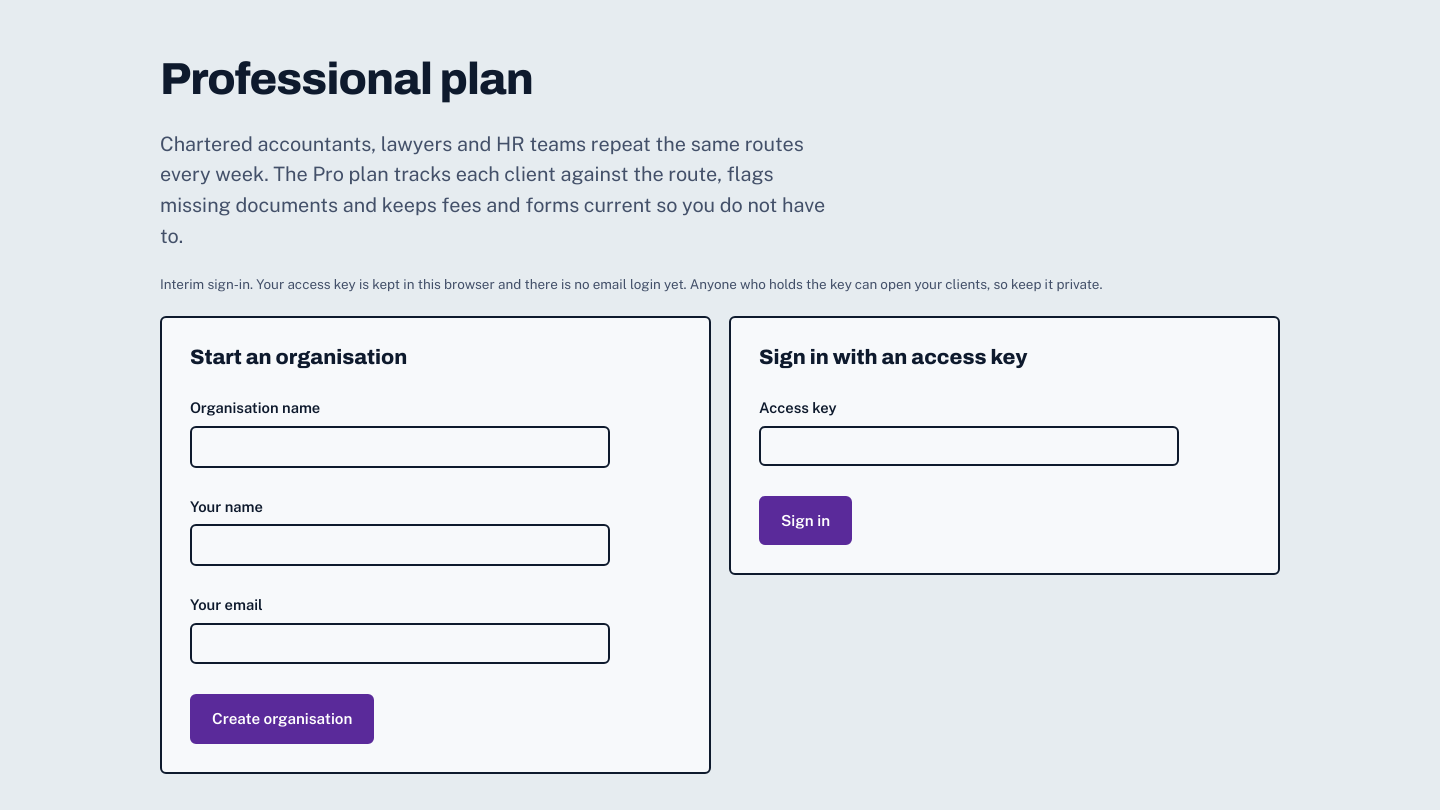
Test: Pro: signing in › shows what the server refused when starting an organisation
This screenshot has width=1440, height=810.
Type "Rao & Co" into the field labelled "Organisation name" at (400, 447), box 190,426 -> 610,468
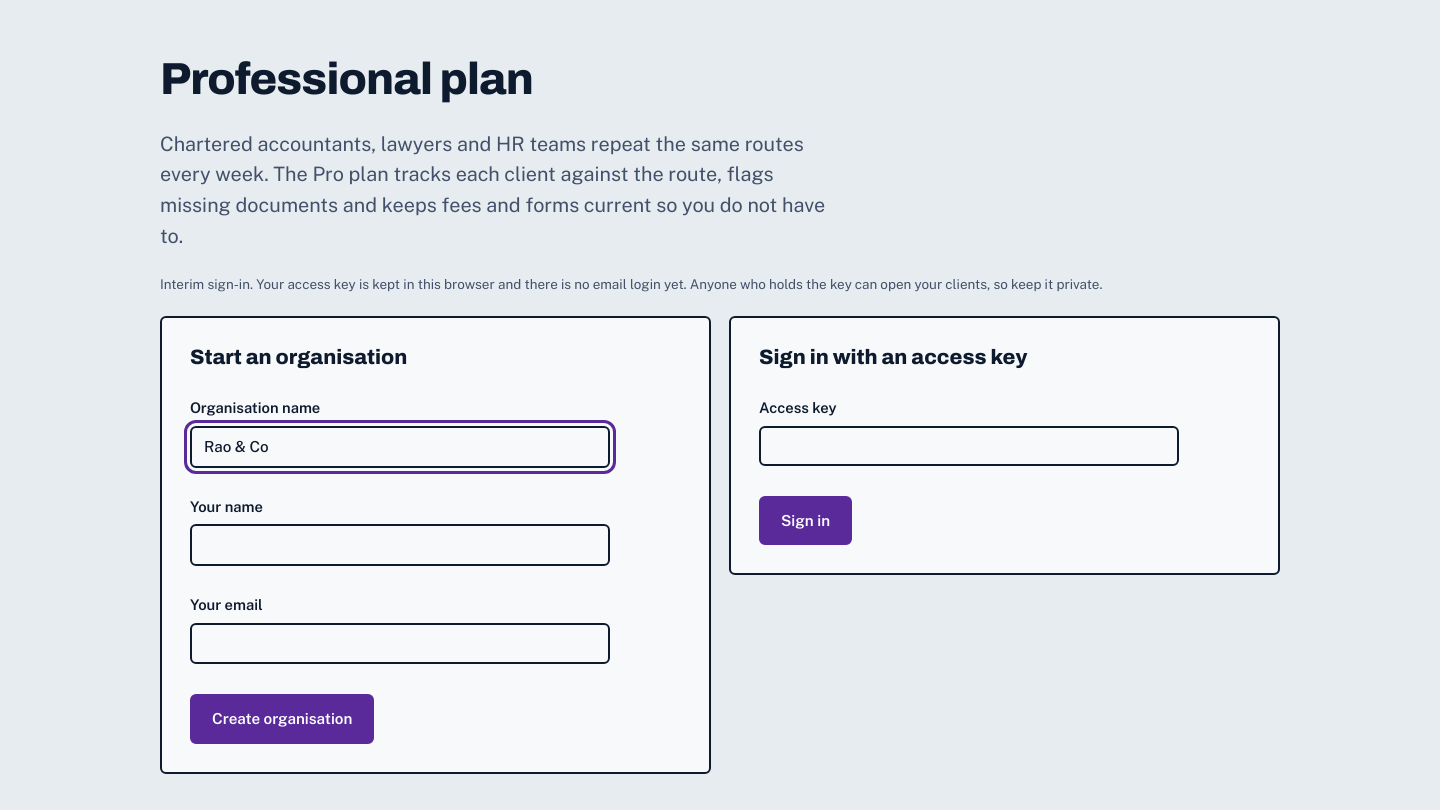
Type "Meera" into the field labelled "Your name" at (400, 545), box 190,524 -> 610,566
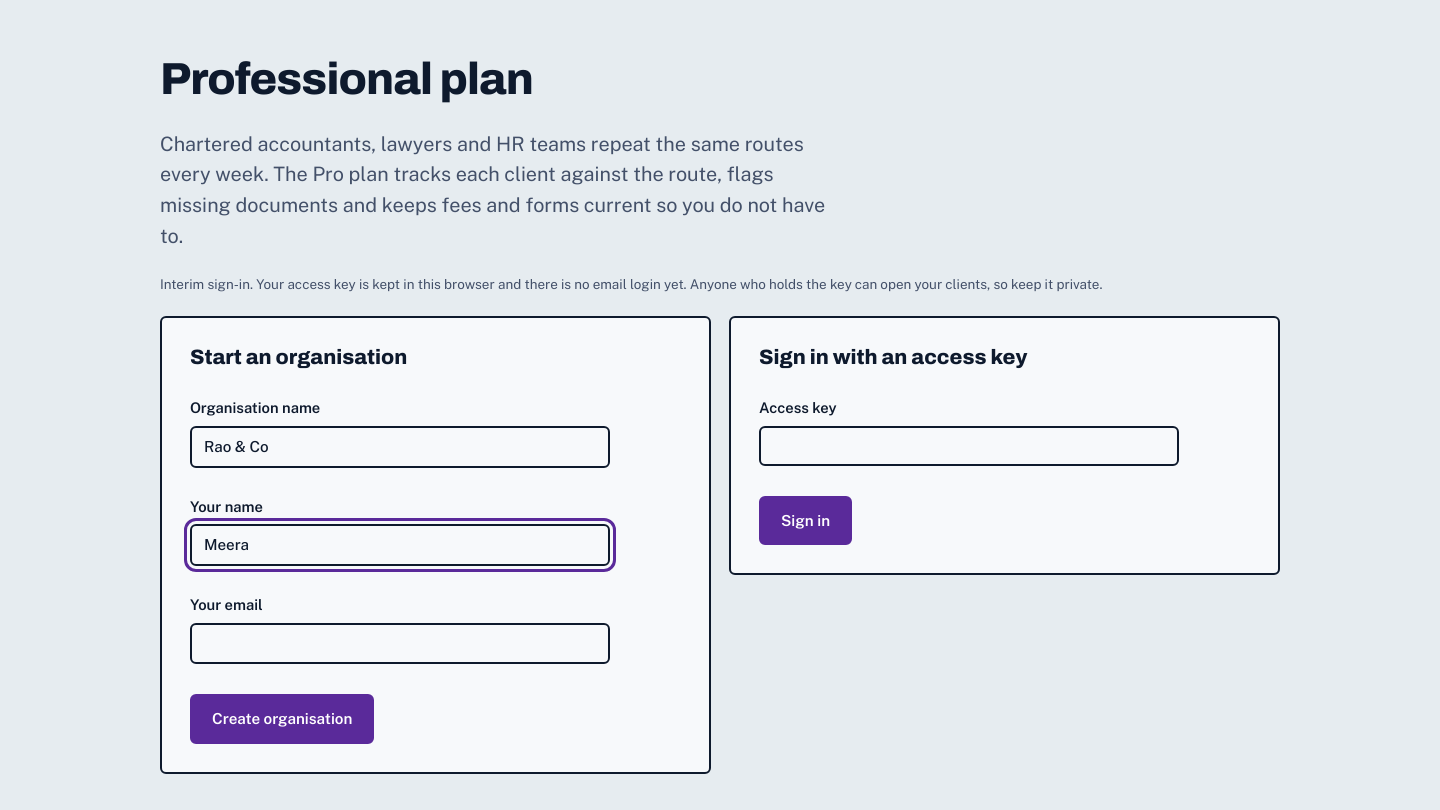
Type "meera@example.com" into the field labelled "Your email" at (400, 643), box 190,622 -> 610,664
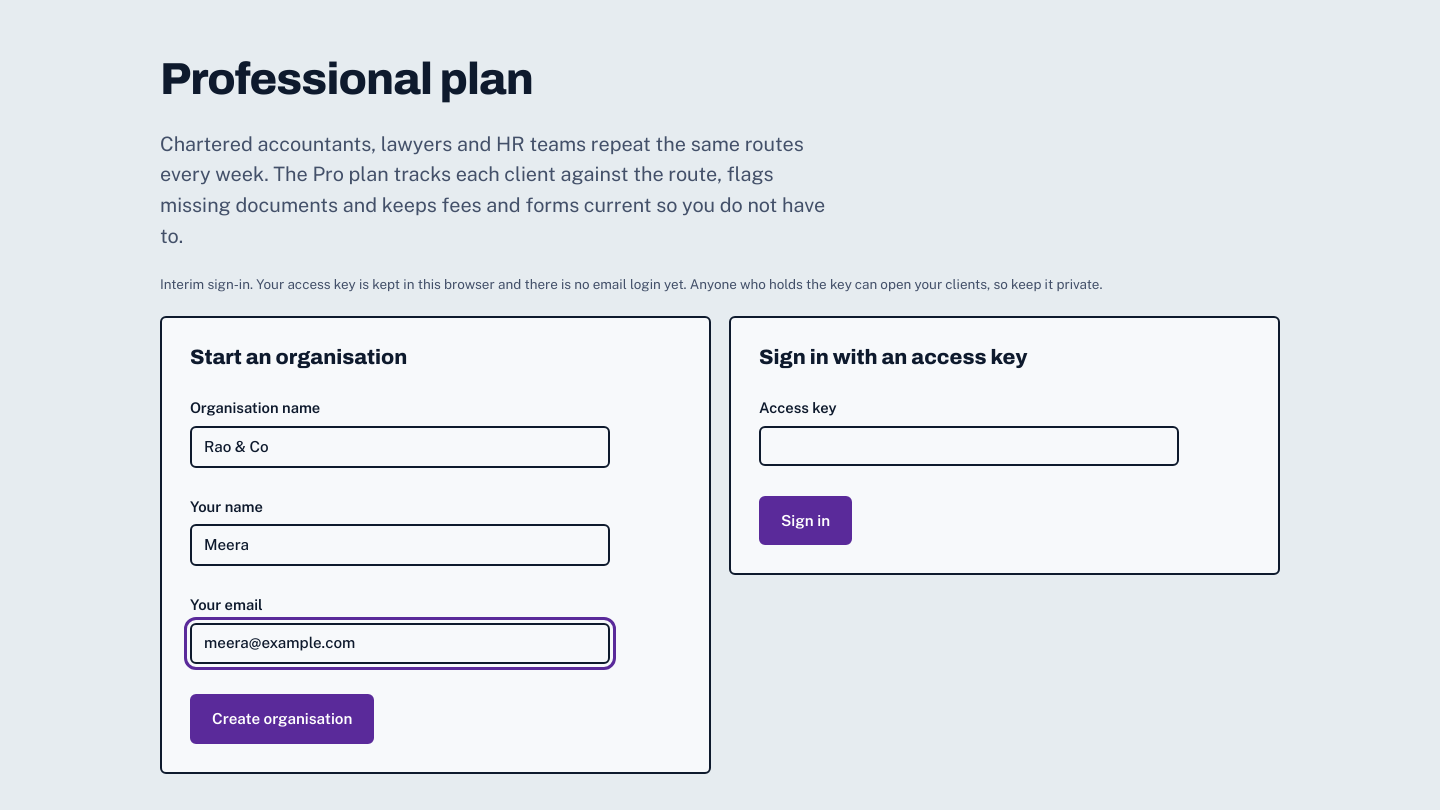
Click the button "Create organisation" at (282, 719), box 190,694 -> 374,744
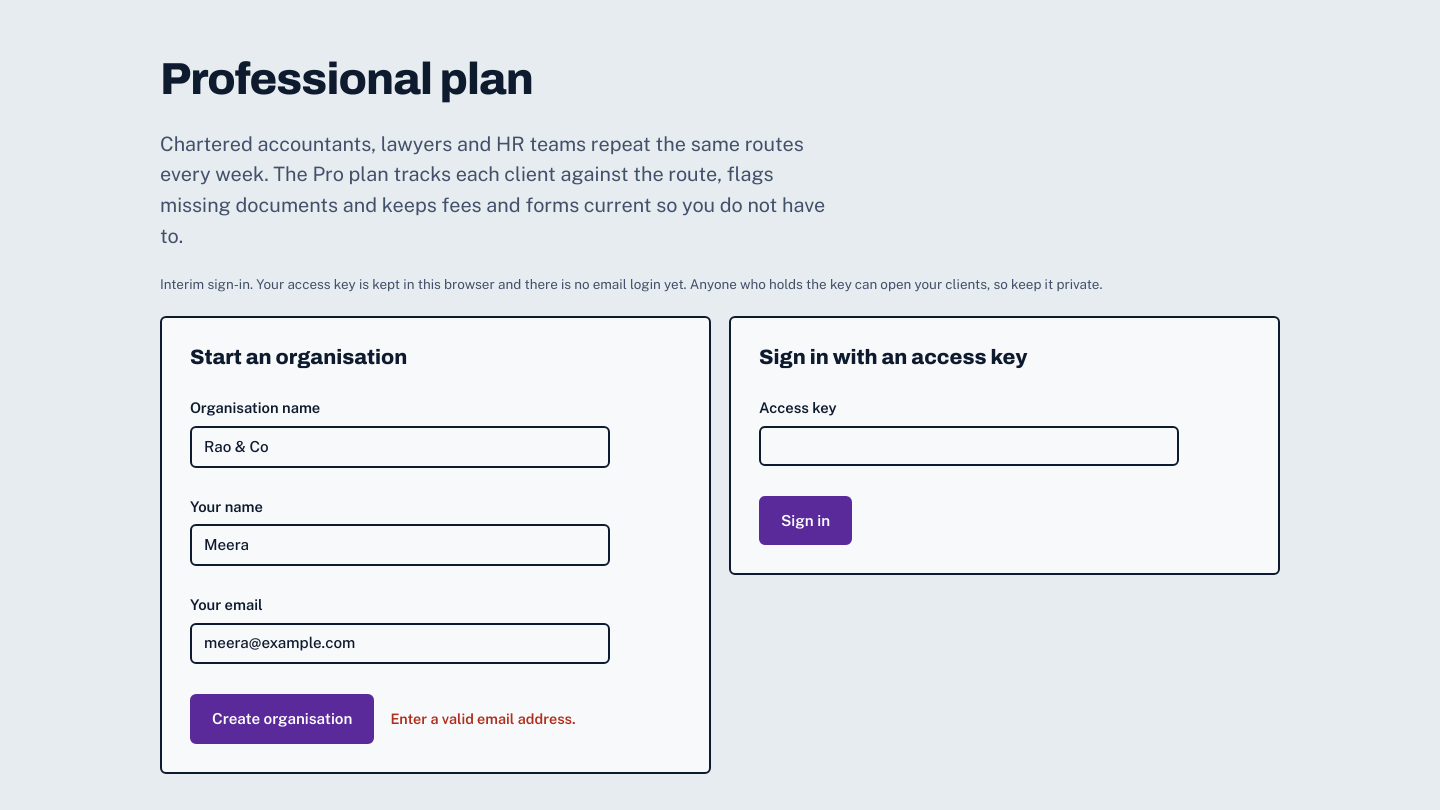
Now the text "Enter a valid email address." is shown, box 390,708 -> 576,730
